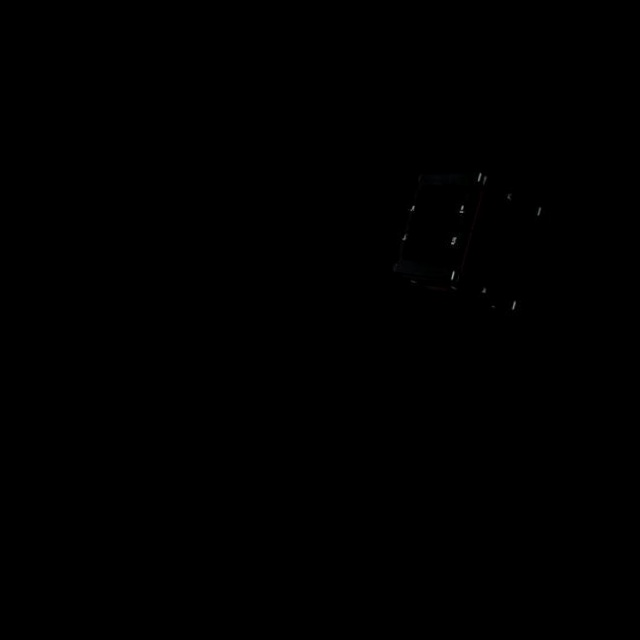satellite: (382, 161, 562, 348)
